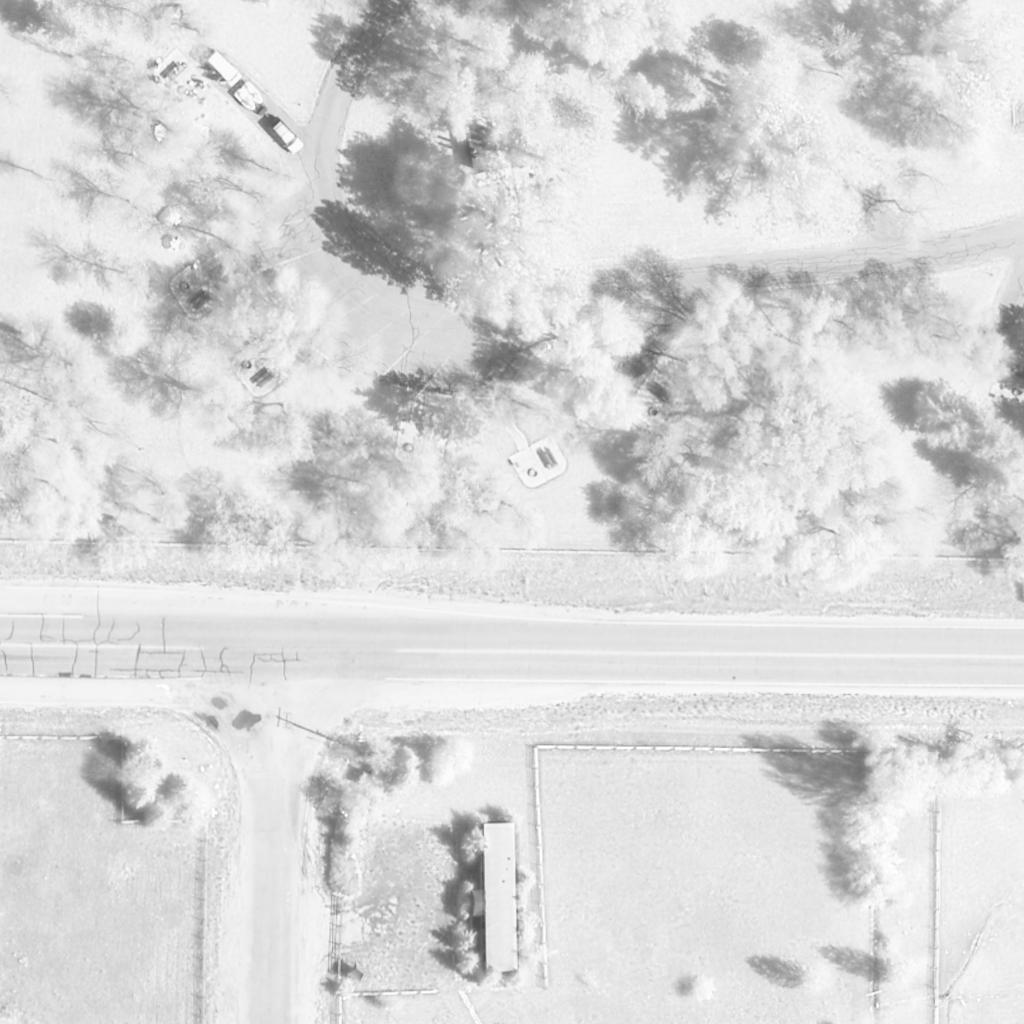vehicle: (205, 52, 245, 90), (267, 120, 303, 156), (231, 88, 261, 114), (243, 83, 265, 105)
